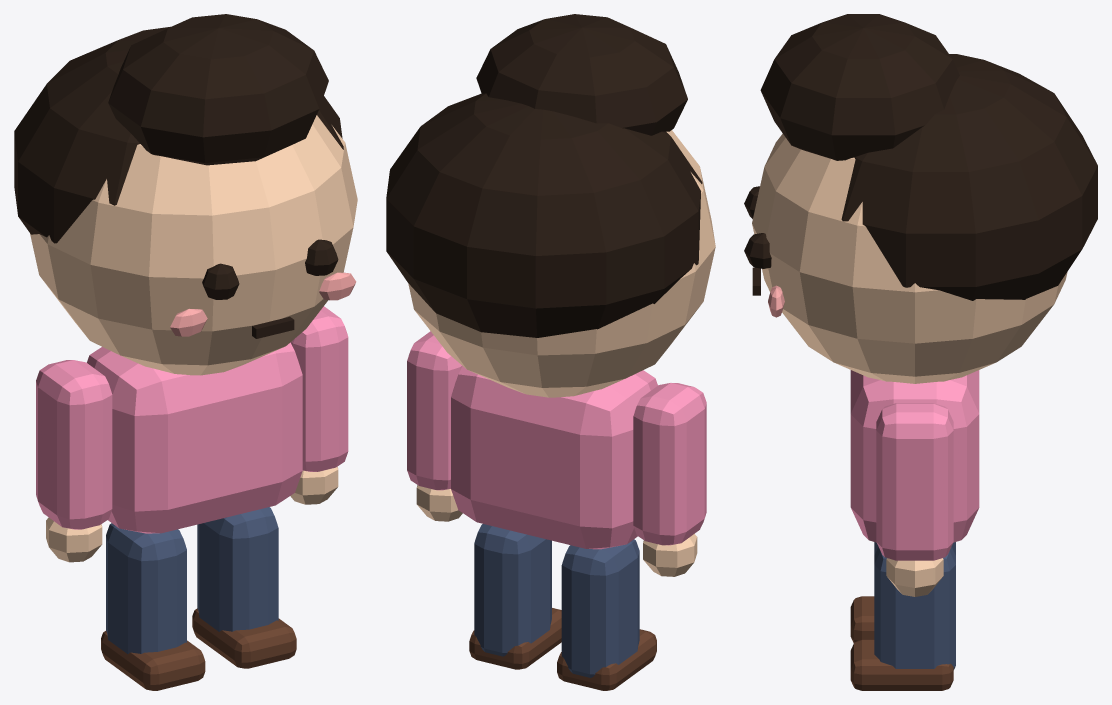
The model's file is kar_penjaga_salon.fbx.
The picture shows the model from 3 angles, left to right: view 1: azimuth 30°, elevation 25°; view 2: azimuth 150°, elevation 25°; view 3: azimuth 270°, elevation 25°; orthographic projection. The views are drawn at different scales.
Visible parts, largest first — view 1: kar_penjaga_salon; view 2: kar_penjaga_salon; view 3: kar_penjaga_salon.
Part boxes in pixels (box(x1,y1,x2,y2)): kar_penjaga_salon: box(14, 14, 357, 690); kar_penjaga_salon: box(386, 14, 715, 690); kar_penjaga_salon: box(744, 14, 1097, 690).
Size of the model in its own units: 76 by 162 by 82.44.
1 material, 1 textured.
